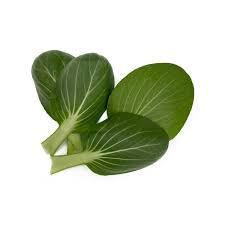Healthy-Pechay: (23, 43, 200, 182)
